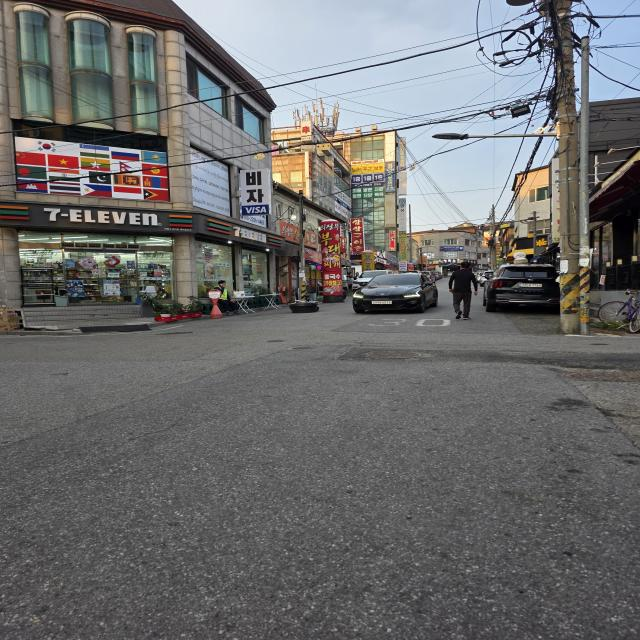car: (491, 259, 562, 312), (352, 271, 433, 313)
